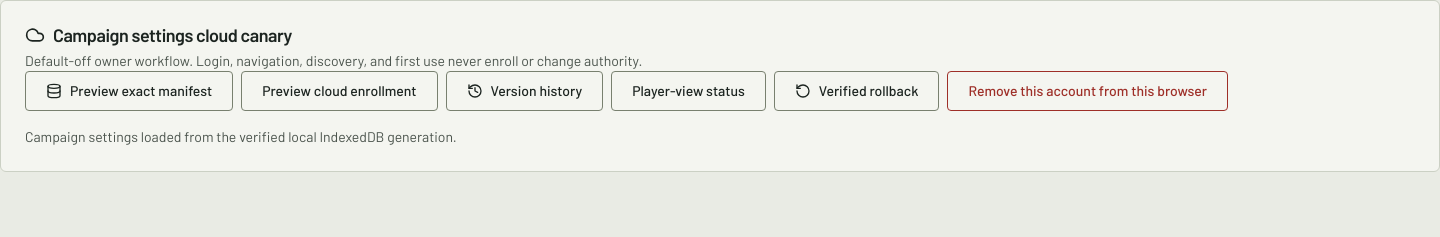
Test: CampaignSettingsSyncControls default-off contract › offers an explicit exact-version hydration after an enrolled device previews newer cloud state
The image size is (1440, 237).
Click the button "Preview cloud enrollment".
click(339, 91)  # box left=241, top=71, right=438, bottom=111
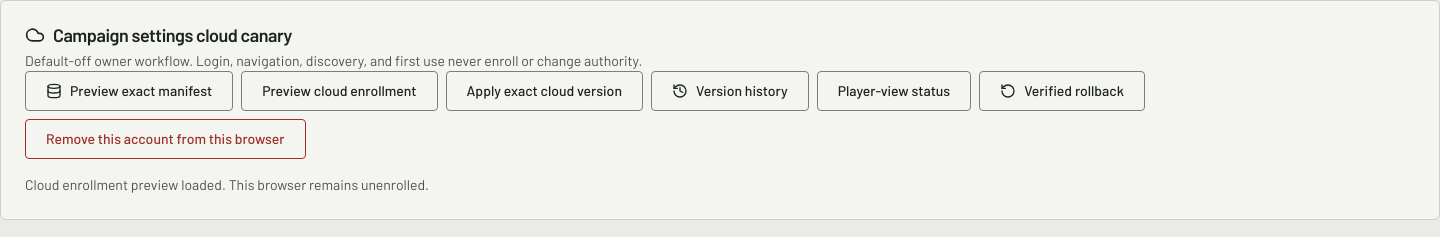
Check: the button "Apply exact cloud version" is shown, box left=446, top=71, right=643, bottom=111
